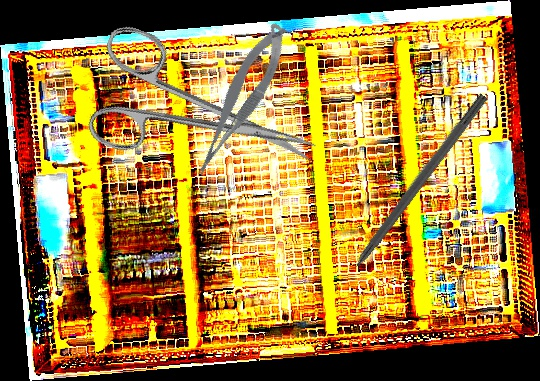Hook Surgical: (333, 91, 490, 291)
Iris Scissors: (74, 21, 333, 213)
Micro Scissor: (175, 19, 303, 181)
